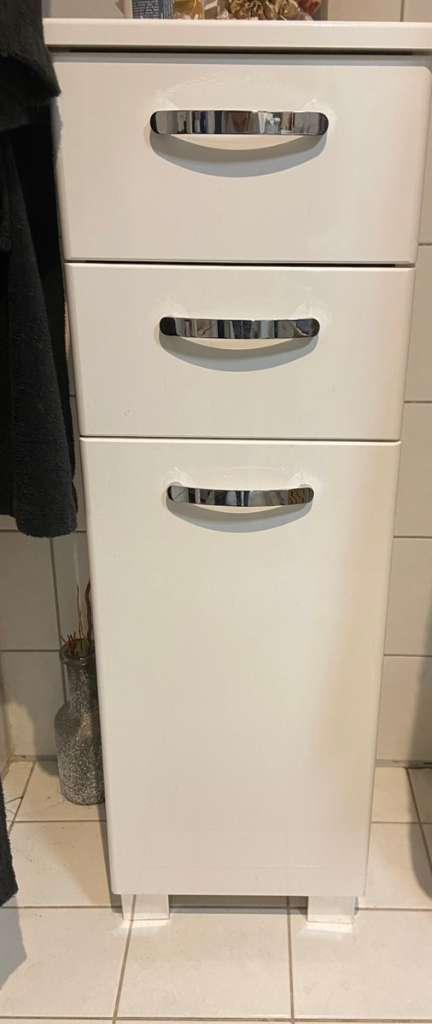cabinet_door: (100, 442, 377, 897), (64, 65, 427, 269), (78, 261, 407, 434)
handle: (145, 102, 329, 152), (161, 469, 315, 522), (158, 310, 321, 353)
